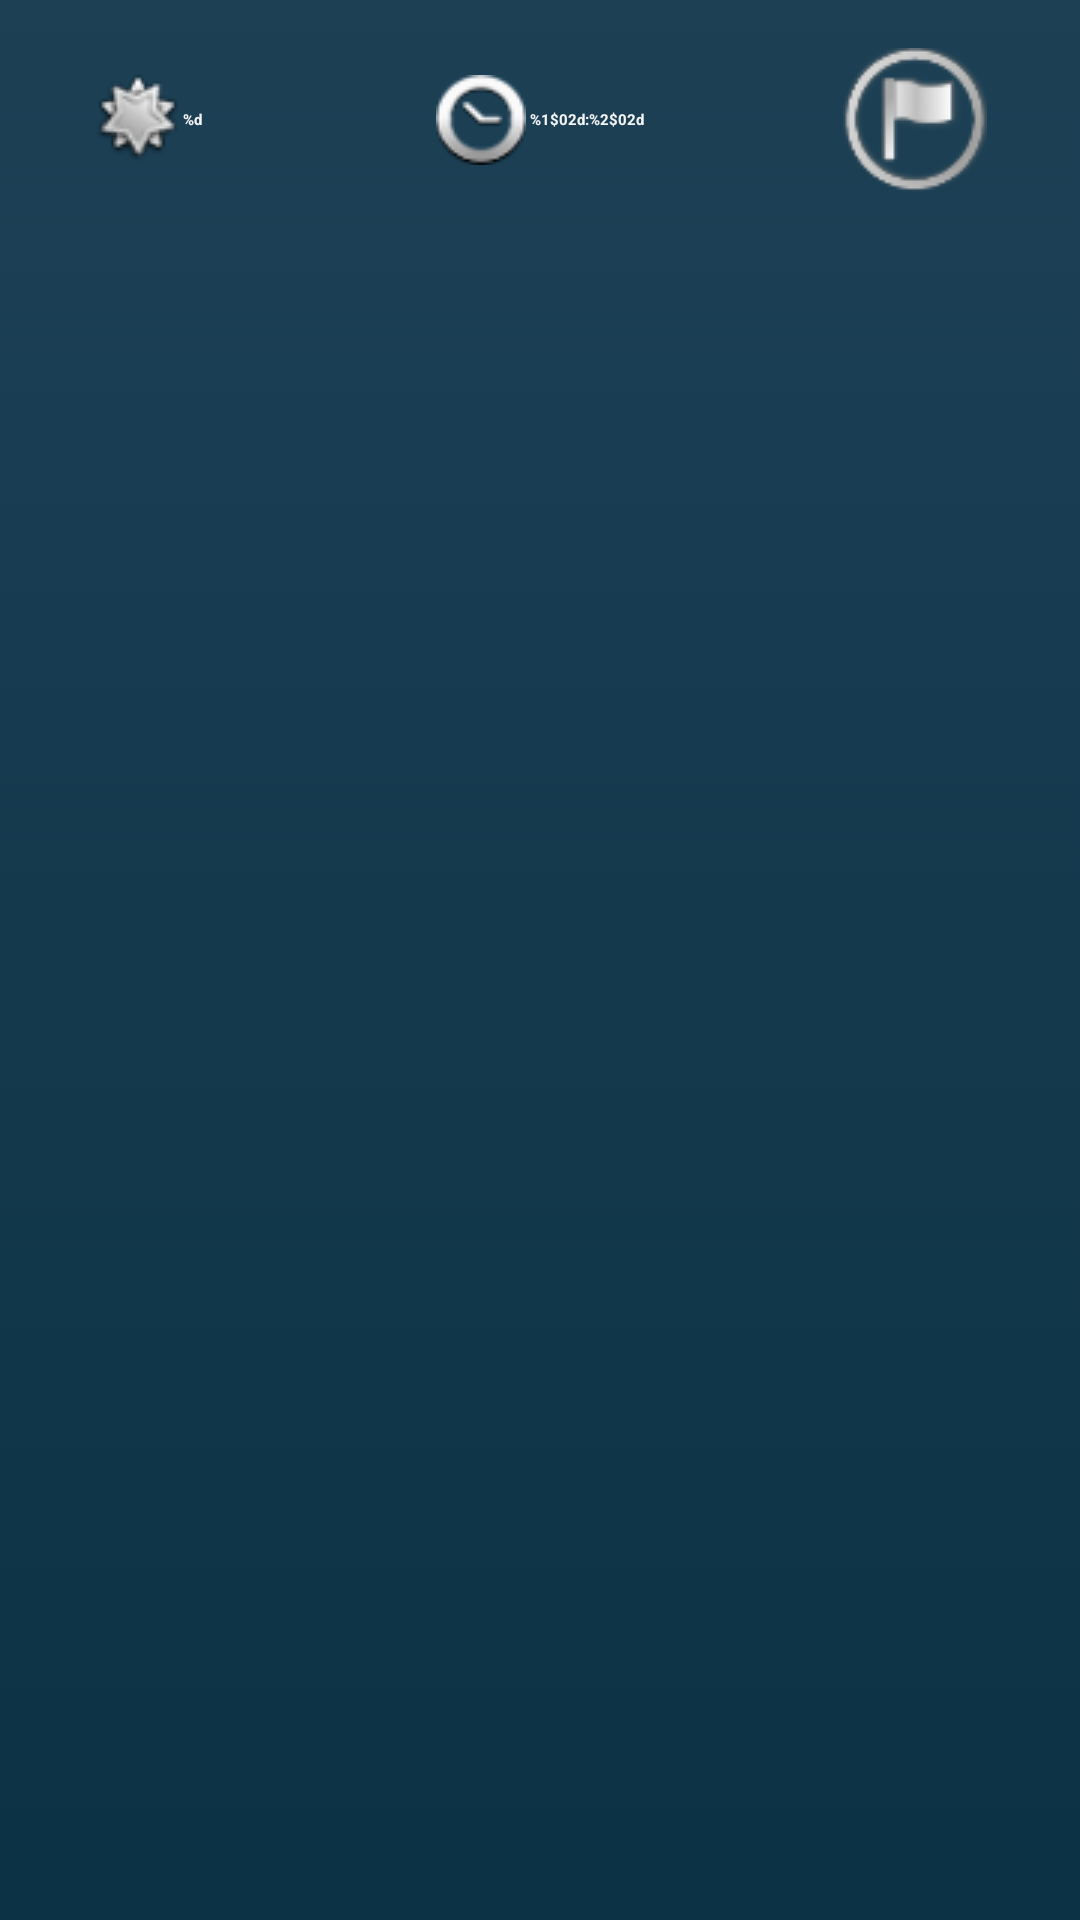

Screen size 1080px x 1920px. Icon name, then its box in pixels as (x1, y1, x2, y2):
just flag: (845, 48, 987, 190)
